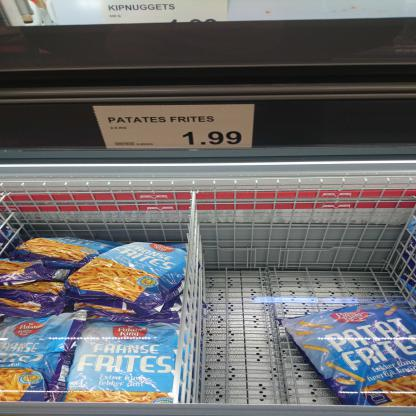prtg: (93, 105, 259, 150)
